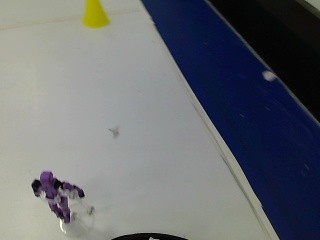cone: (76, 0, 109, 31)
pedestrian: (25, 161, 85, 231)
